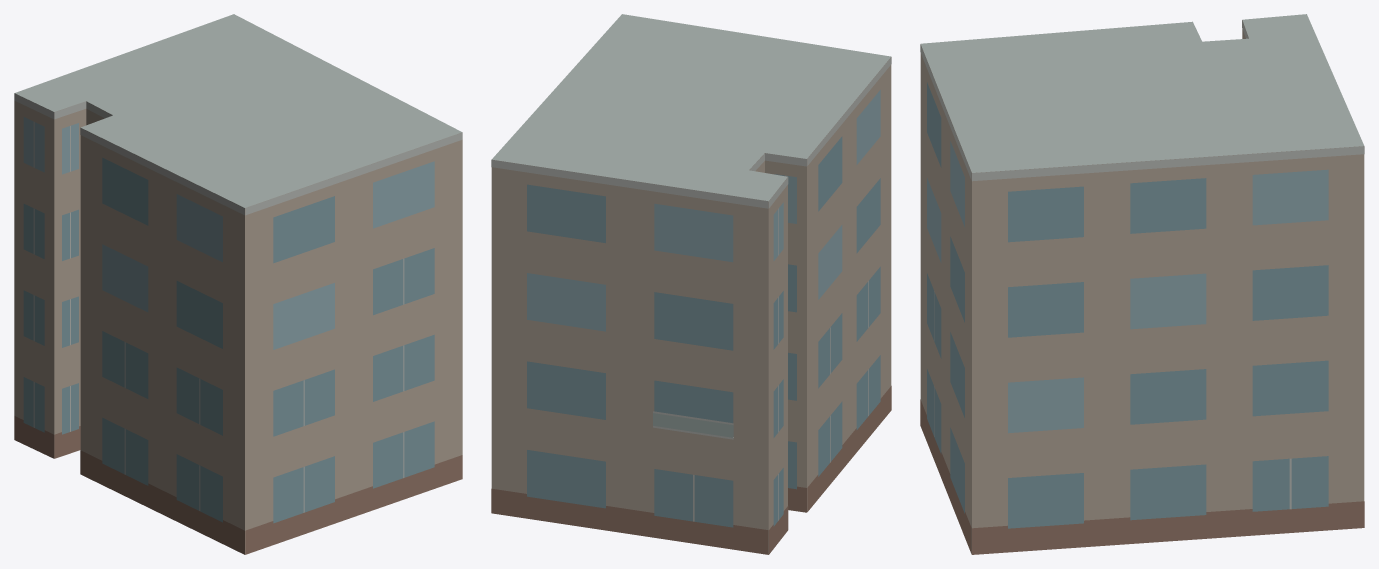
The model's file is survey-upis-32708927.glb.
3 views of the same model, side by side, from view 1: azimuth 30°, elevation 25°; view 2: azimuth 150°, elevation 25°; view 3: azimuth 270°, elevation 25° (orthographic). The views are drawn at different scales.
Parts seen in each view (by area): view 1: survey-upis-32708927.tmp; view 2: survey-upis-32708927.tmp; view 3: survey-upis-32708927.tmp.
Boxes of the visible parts, bbox=[...] form: survey-upis-32708927.tmp: bbox=[14, 14, 462, 554]; survey-upis-32708927.tmp: bbox=[491, 14, 891, 554]; survey-upis-32708927.tmp: bbox=[920, 14, 1364, 554].
Bounding box in the file's own units: 10.19 × 11.4 × 12.02.
